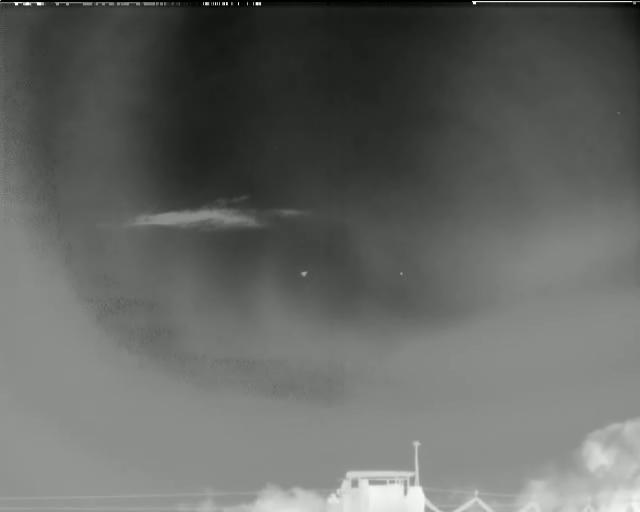uav: (300, 270, 309, 278)
